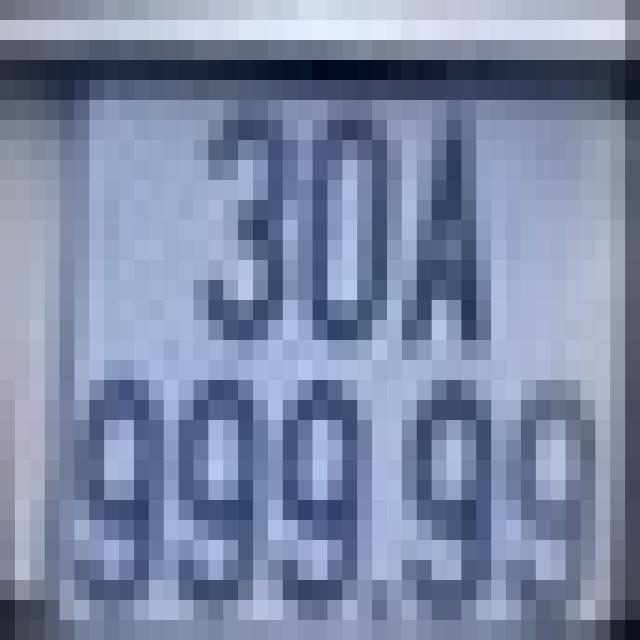0: (298, 100, 387, 340)
3: (193, 100, 283, 340)
9: (506, 380, 595, 620), (74, 380, 164, 600), (402, 380, 491, 600), (179, 380, 253, 600), (283, 380, 357, 600)
A: (402, 100, 491, 360)
